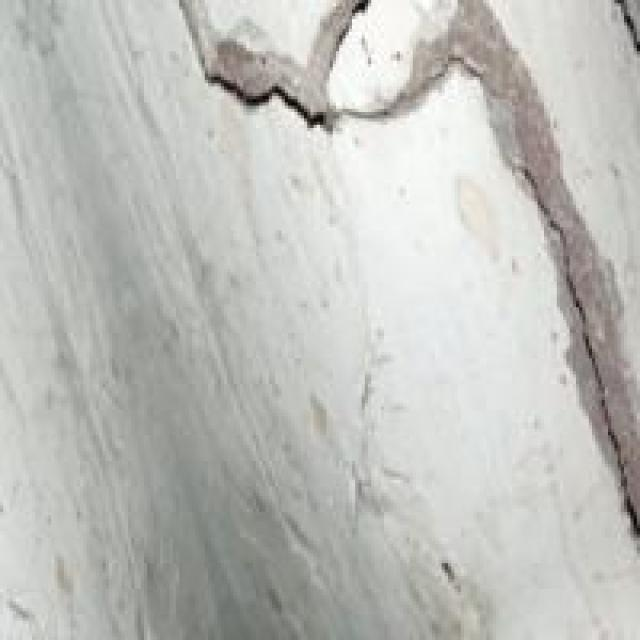crack: (169, 0, 636, 566)
